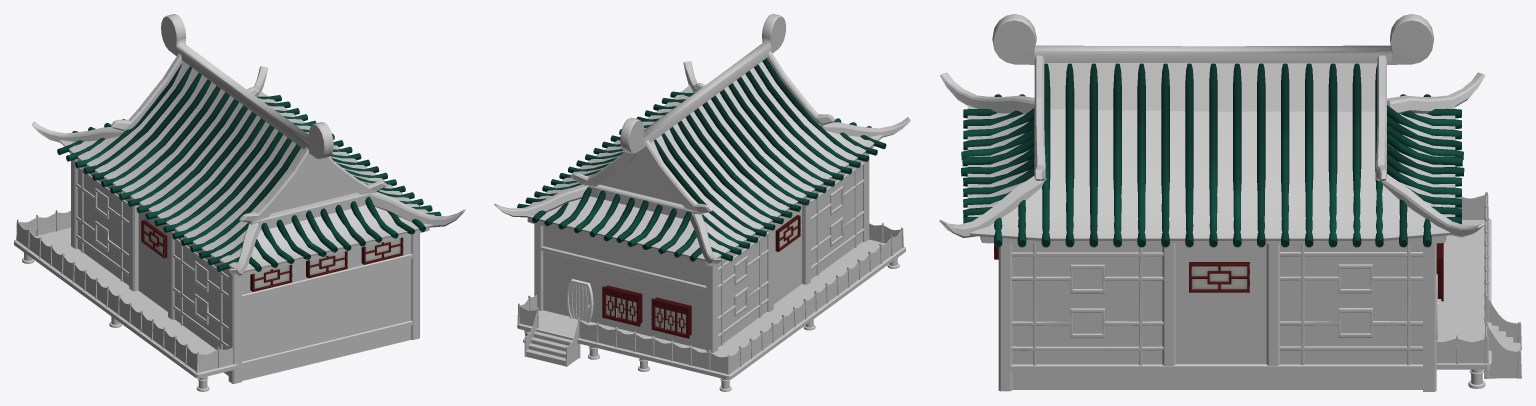
File: Building05_v4.fbx
3 renders of one model, left to right at view 1: azimuth 30°, elevation 25°; view 2: azimuth 150°, elevation 25°; view 3: azimuth 270°, elevation 25°, orthographic. The views are drawn at different scales.
Parts seen in each view (by area): view 1: Building05; view 2: Building05; view 3: Building05.
Boxes of the visible parts, x1,y1,x2,y2 form: Building05: (14, 14, 465, 391); Building05: (494, 14, 910, 391); Building05: (939, 14, 1521, 391).
Bounding box in the file's own units: 1279 × 1142 × 1910.
